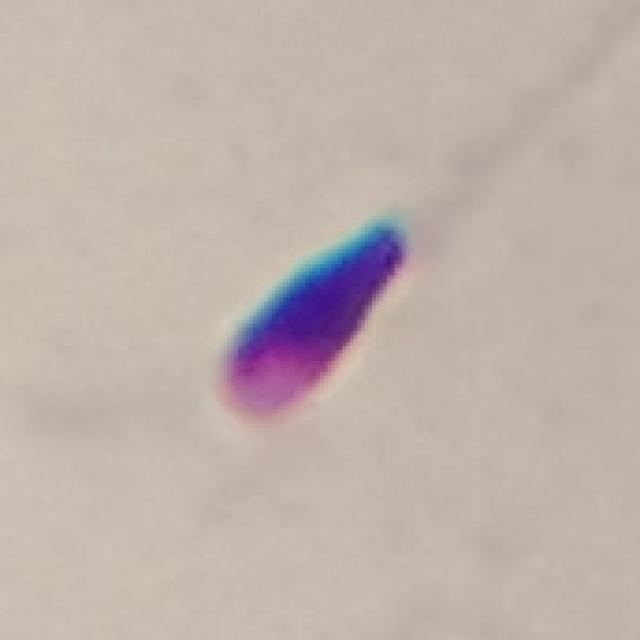abnormal sperm: (221, 150, 500, 421)
